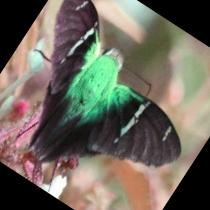butterfly: (26, 0, 182, 169)
